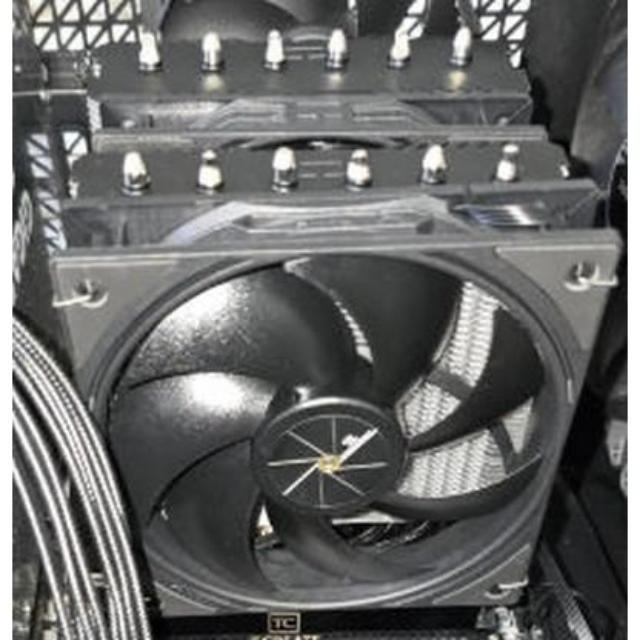CPU_Fan: (49, 8, 614, 618)
